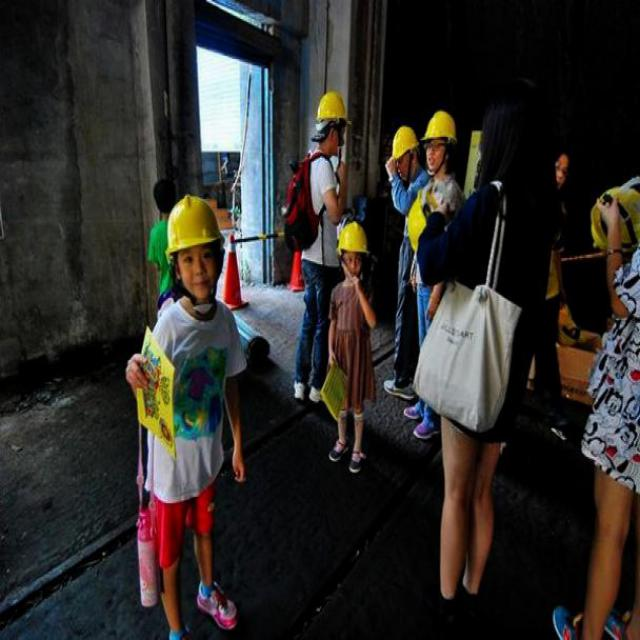helmet: (158, 188, 228, 312), (304, 76, 354, 158), (422, 100, 464, 177), (332, 216, 371, 287), (381, 110, 415, 188)
